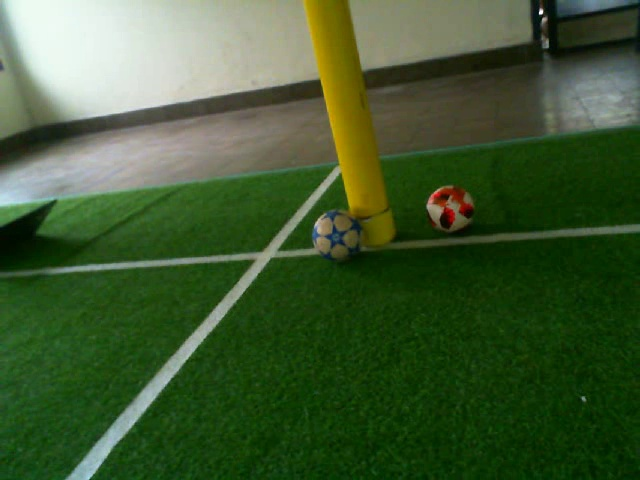ball: (309, 207, 367, 265), (424, 183, 479, 236)
